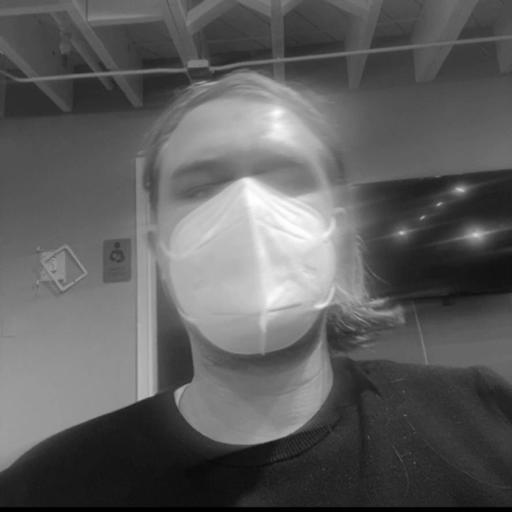mask: (122, 48, 427, 412)
